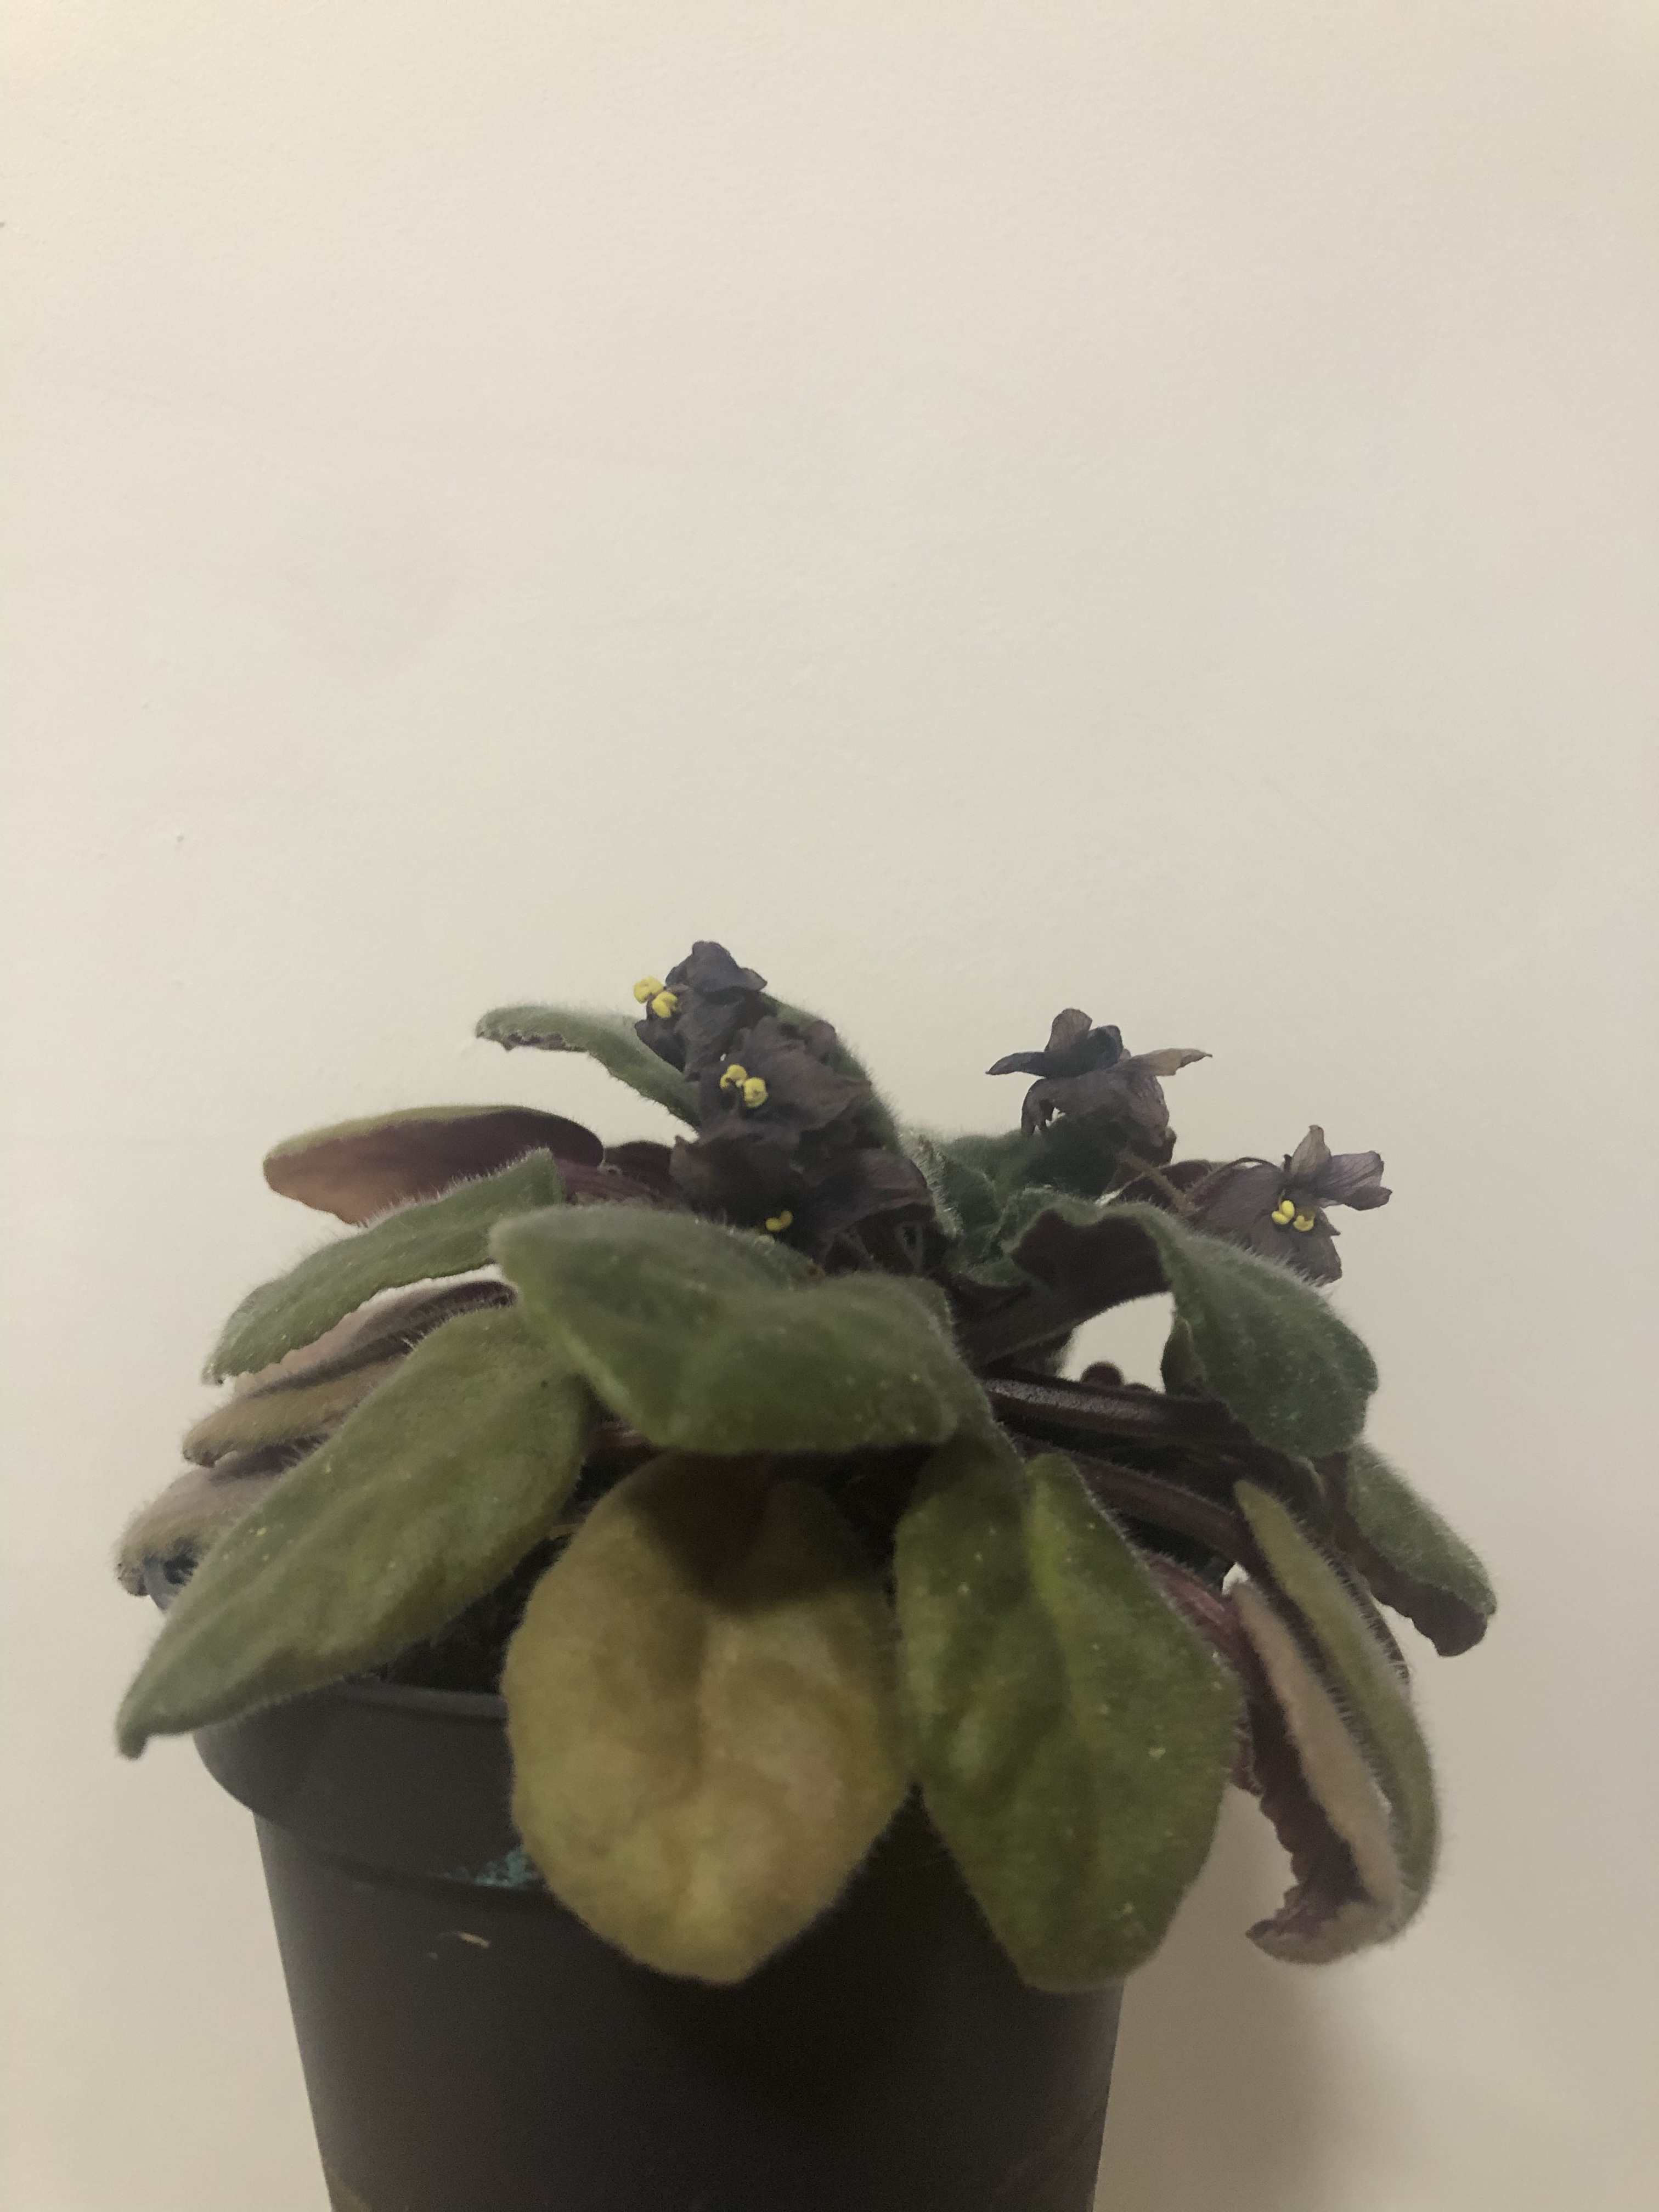ignore: (71, 913, 1492, 2000)
